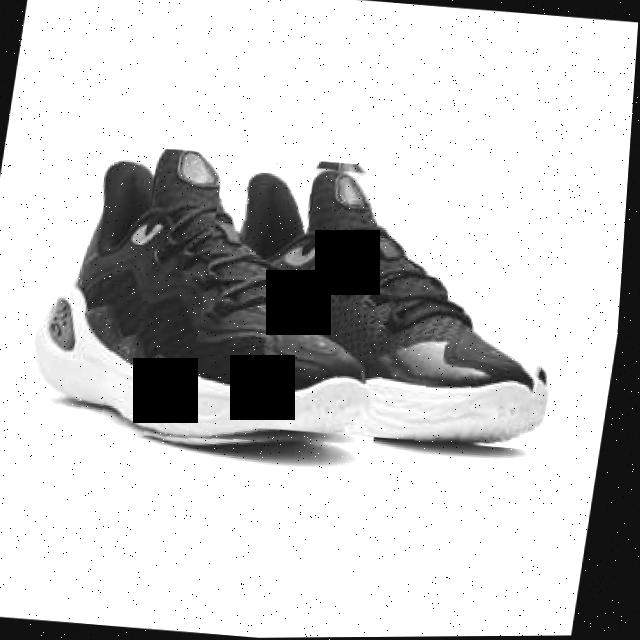shoe: (24, 138, 419, 462), (188, 157, 583, 453)
